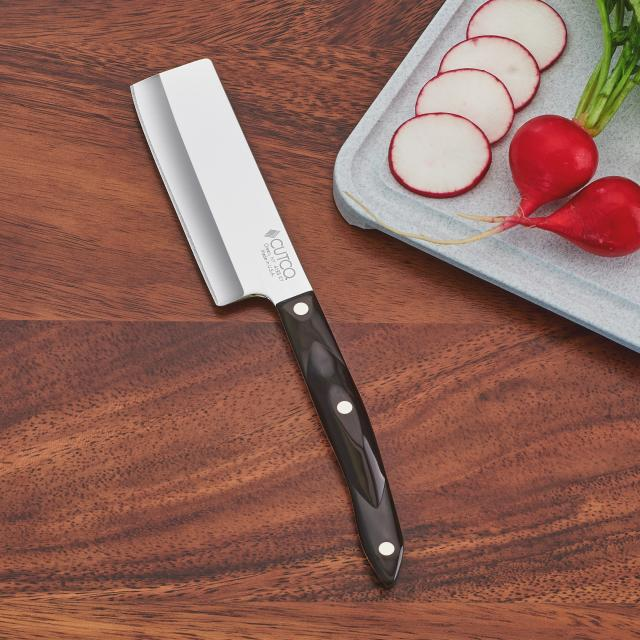Knife: (115, 48, 417, 596)
